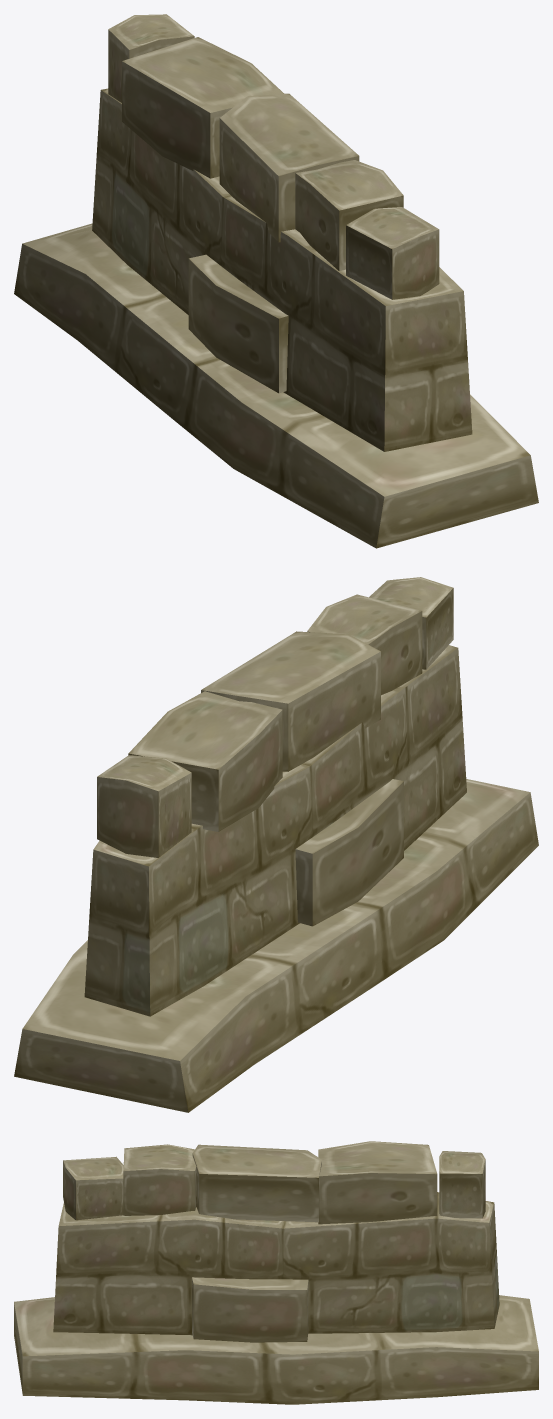
Rendered from wallStoneA.fbx.
The picture shows the model from 3 angles, top to bottom: view 1: azimuth 30°, elevation 25°; view 2: azimuth 150°, elevation 25°; view 3: azimuth 270°, elevation 25°; orthographic projection. The views are drawn at different scales.
Visible parts, largest first — view 1: wall_stoneA; view 2: wall_stoneA; view 3: wall_stoneA.
Part boxes in pixels (<box>): wall_stoneA: <box>14,14,538,548</box>; wall_stoneA: <box>14,577,538,1112</box>; wall_stoneA: <box>14,1141,538,1404</box>.
Bounding box in the file's own units: 147 × 179 × 415.
